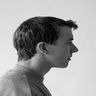ear: (32, 38, 54, 58)
